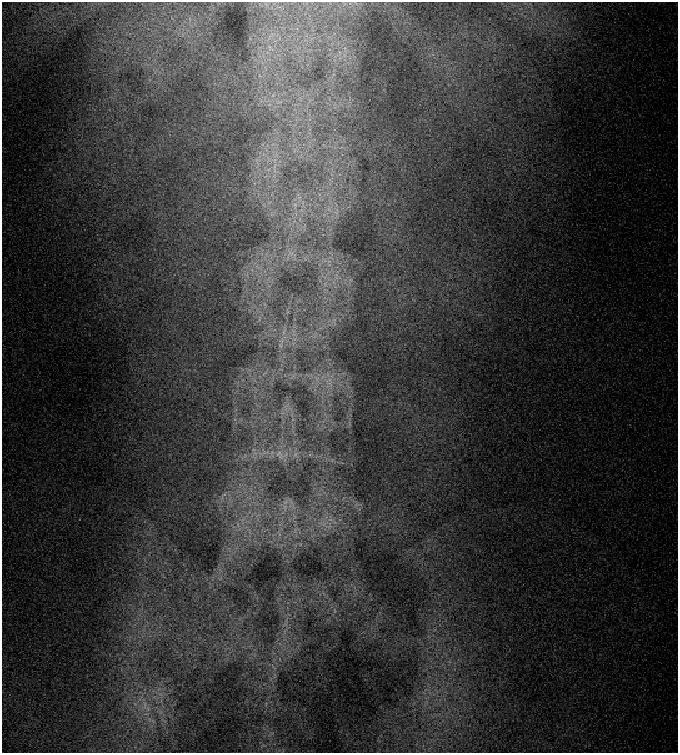lumbar scoliosis: (204, 274, 433, 604)
